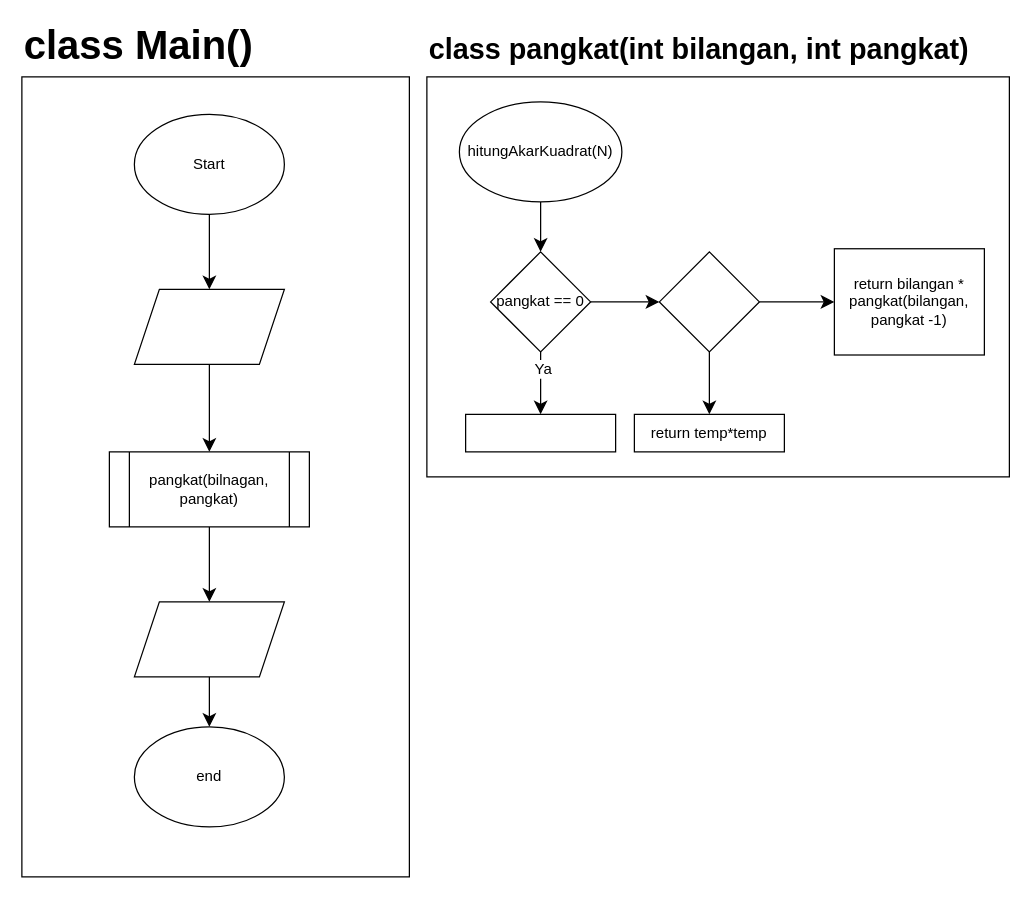
This 1031x899 diagram has some shape labels left out. Here are the shapes that lost their labels. From the top down, the centre of each, then its label:
At point 708,301: "pangkat%2 == 0".
At point 208,326: "input bilangan, pangkat".
At point 540,432: "return 1".
At point 208,639: "print hasil akar".
